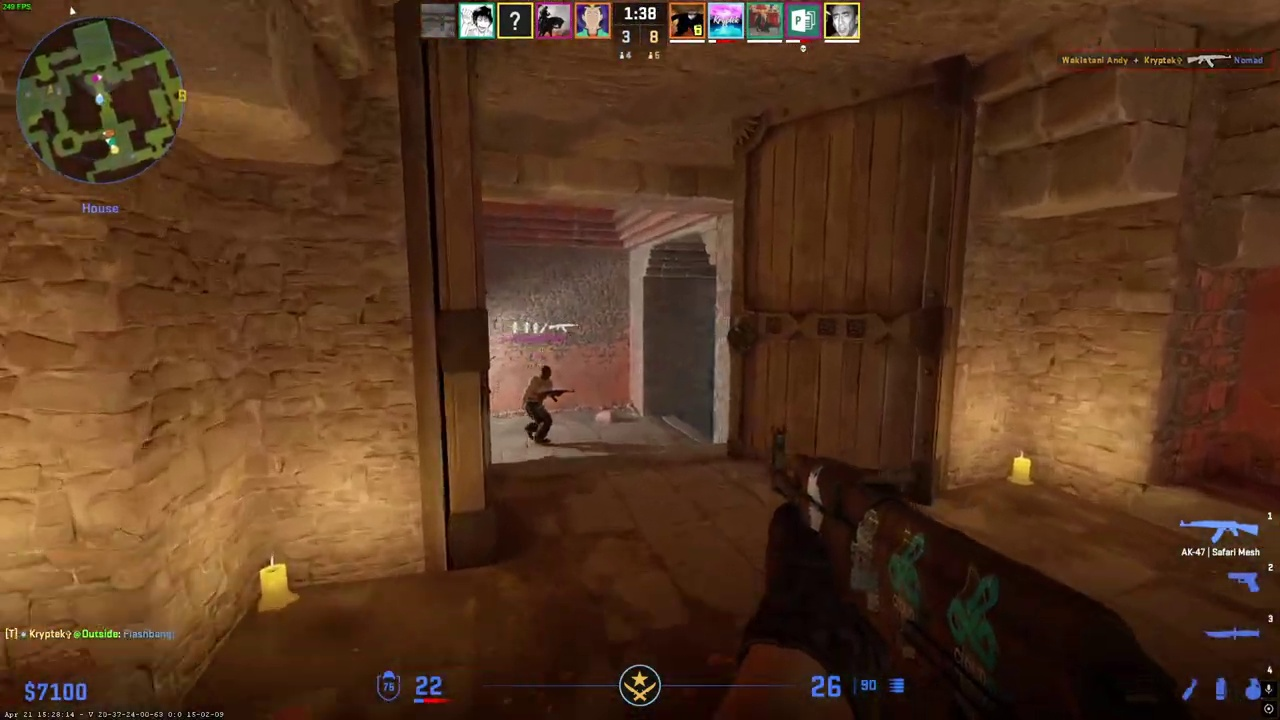Terrorist: (524, 365, 558, 444)
